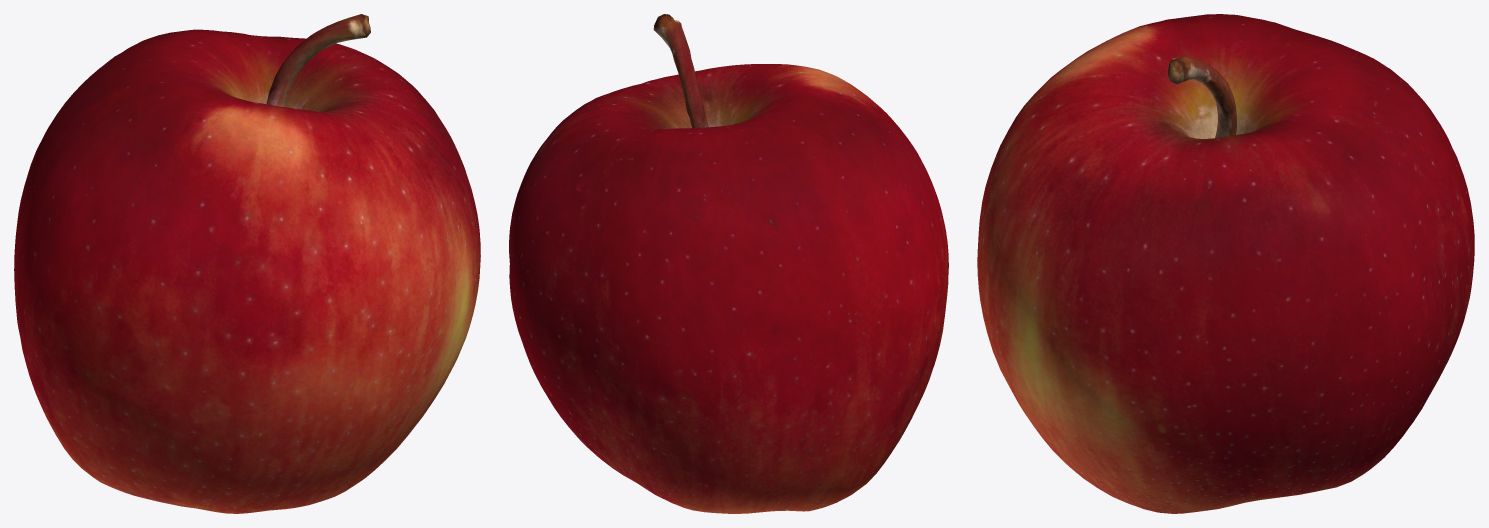
Rendered from apple.glb.
3 renders of one model, left to right at view 1: azimuth 30°, elevation 25°; view 2: azimuth 150°, elevation 25°; view 3: azimuth 270°, elevation 25°, orthographic. The views are drawn at different scales.
Visible parts, largest first — view 1: Apple Food; view 2: Apple Food; view 3: Apple Food.
Boxes of the visible parts, x1,y1,x2,y2 form: Apple Food: [14, 14, 480, 513]; Apple Food: [509, 14, 948, 513]; Apple Food: [977, 14, 1474, 513].
Bounding box in the file's own units: 0.1242 × 0.1325 × 0.1256.
Materials: 1 (1 with a texture image).
